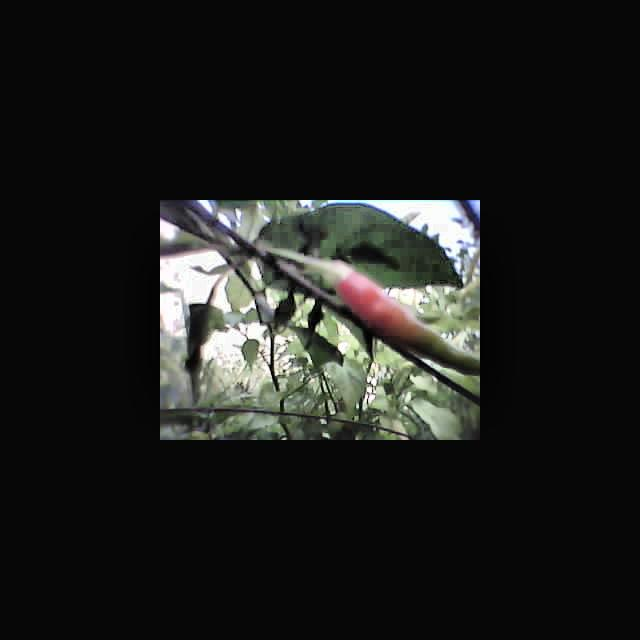Cabai: (327, 258, 480, 374)
